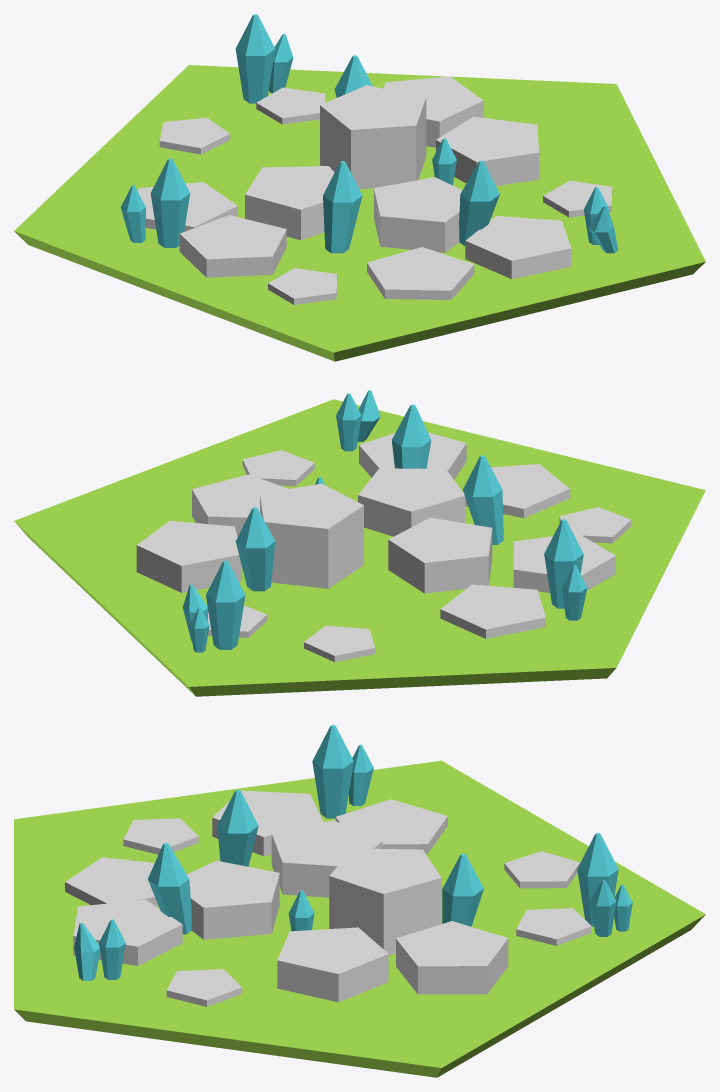
Rendered from RockTilesCrystal_blue2.fbx.
3 renders of one model, top to bottom at view 1: azimuth 30°, elevation 25°; view 2: azimuth 150°, elevation 25°; view 3: azimuth 270°, elevation 25°, orthographic. The views are drawn at different scales.
Parts seen in each view (by area): view 1: origine.008; view 2: origine.008; view 3: origine.008.
Part boxes in pixels (left/top/right/bottom): origine.008: left=14, top=14, right=705, bottom=361; origine.008: left=14, top=390, right=705, bottom=696; origine.008: left=14, top=725, right=705, bottom=1077.
Size of the model in its own units: 111 by 17.38 by 105.
